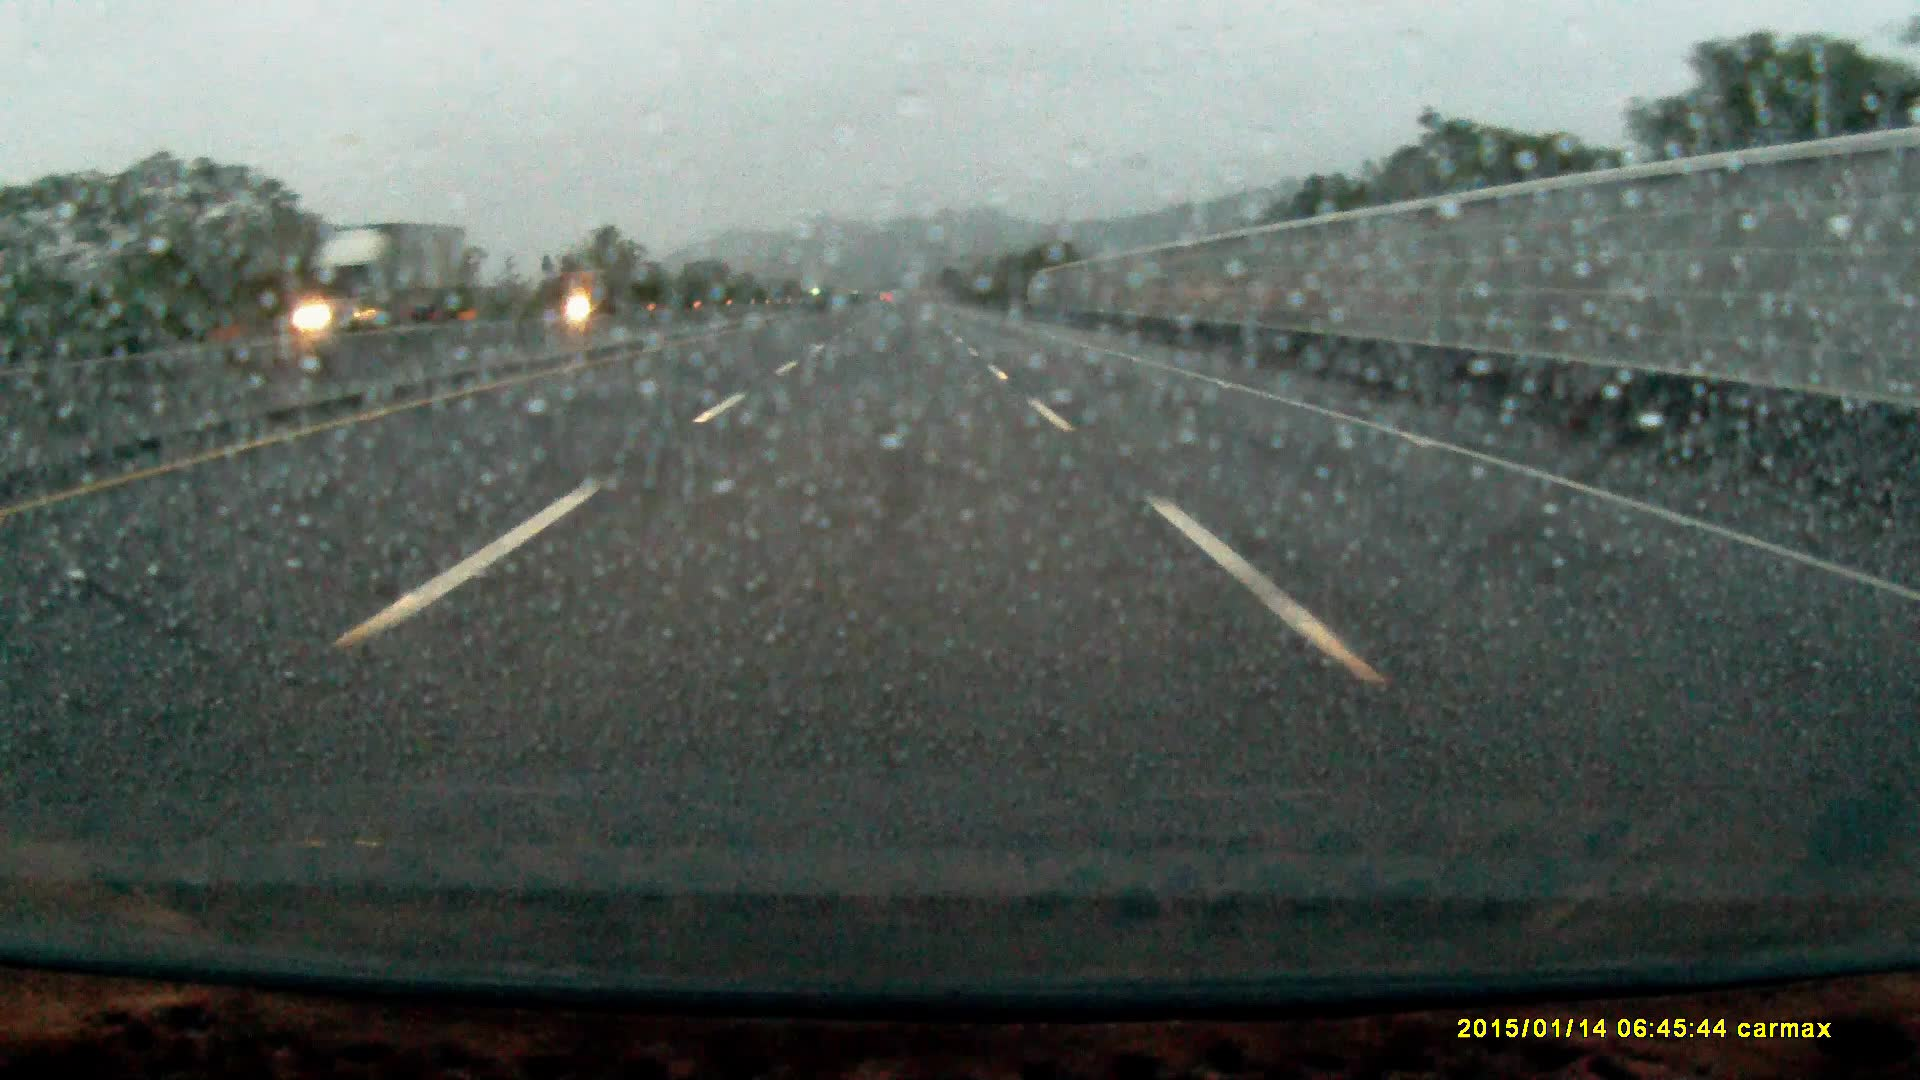vehicle: (280, 229, 469, 332)
